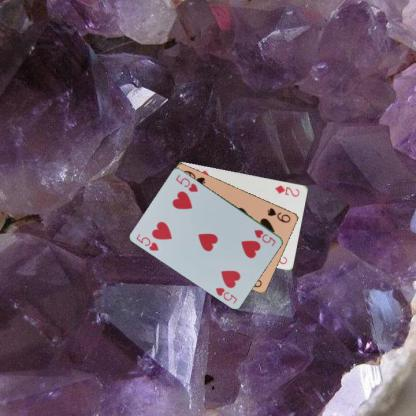2d: (273, 182, 301, 198)
5h: (134, 231, 160, 252), (252, 227, 277, 247)
9s: (264, 205, 292, 224)
